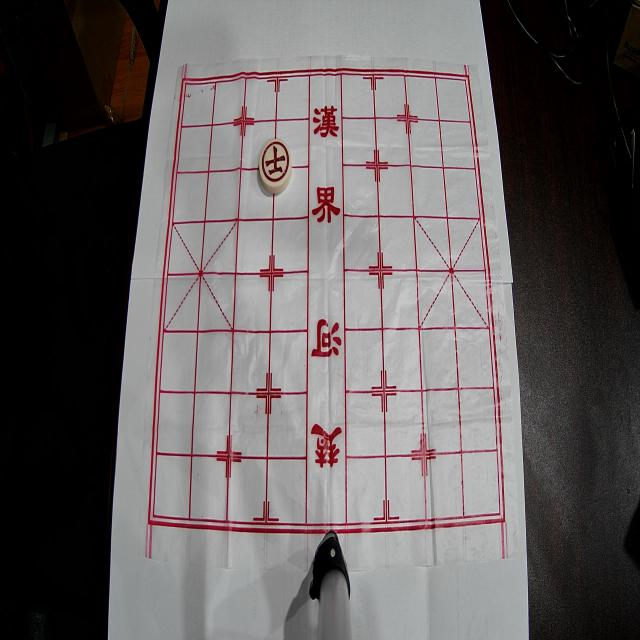red-guard: (259, 139, 292, 194)
